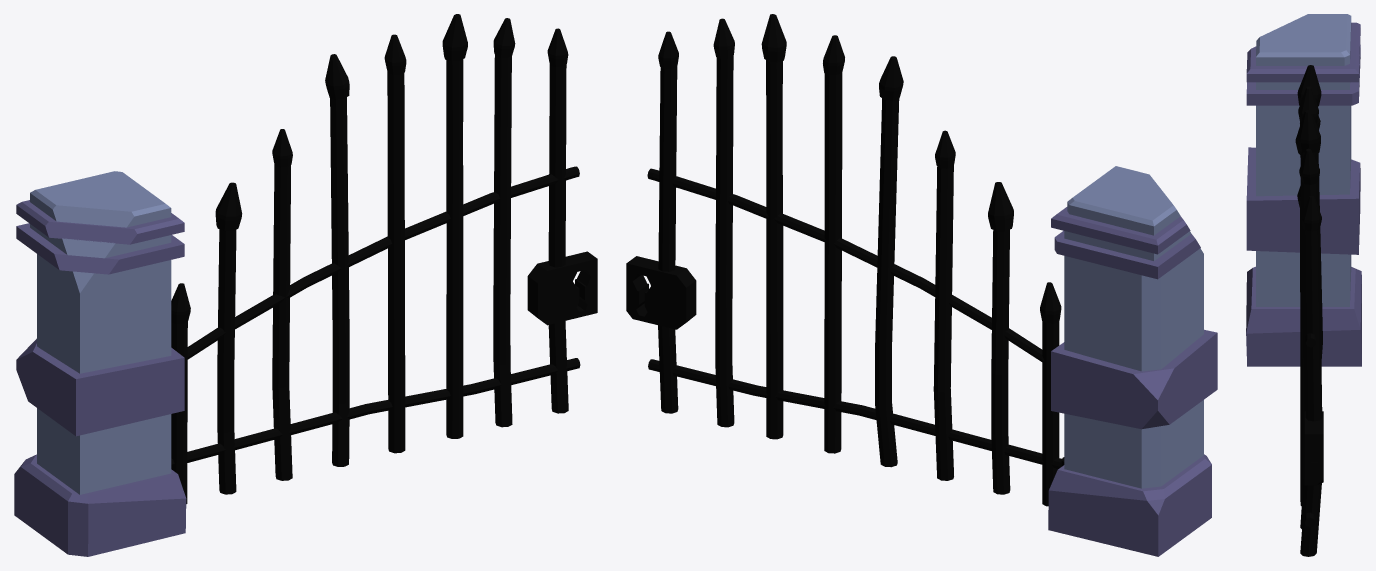
The model's file is Gate Metal 01.fbx.
The picture shows the model from 3 angles, left to right: view 1: azimuth 30°, elevation 25°; view 2: azimuth 150°, elevation 25°; view 3: azimuth 270°, elevation 25°; orthographic projection. The views are drawn at different scales.
Parts seen in each view (by area): view 1: Gate 01 MovingPart, Gate 01; view 2: Gate 01 MovingPart, Gate 01; view 3: Gate 01, Gate 01 MovingPart.
Boxes of the visible parts, x1,y1,x2,y2 form: Gate 01 MovingPart: [171, 14, 597, 503]; Gate 01: [14, 171, 186, 556]; Gate 01 MovingPart: [626, 14, 1064, 506]; Gate 01: [1048, 166, 1217, 556]; Gate 01: [1246, 14, 1361, 366]; Gate 01 MovingPart: [1295, 65, 1323, 556].
Bounding box in the file's own units: 395 × 286 × 76.06.
